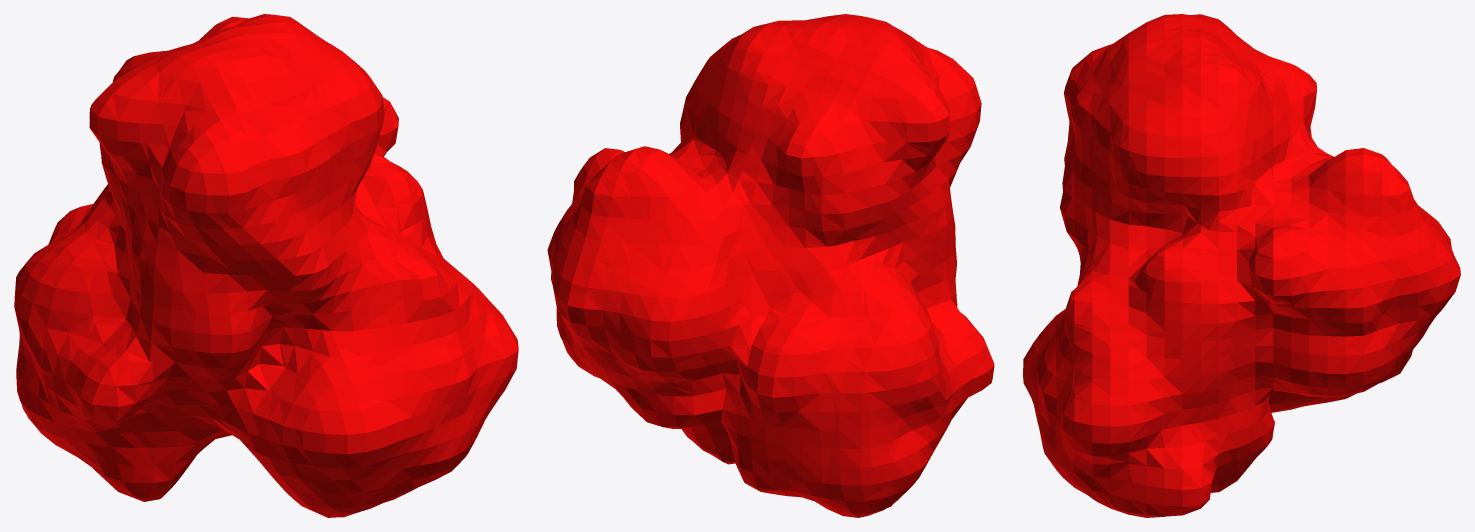
The model's file is yefM_coarse.dae.
3 renders of one model, left to right at view 1: azimuth 30°, elevation 25°; view 2: azimuth 150°, elevation 25°; view 3: azimuth 270°, elevation 25°, orthographic. The views are drawn at different scales.
Visible parts, largest first — view 1: yefM; view 2: yefM; view 3: yefM.
Boxes of the visible parts, left/top/right/bottom form: yefM: left=14, top=14, right=518, bottom=517; yefM: left=547, top=14, right=994, bottom=517; yefM: left=1023, top=14, right=1460, bottom=517.
Size of the model in its own units: 58.24 by 65.94 by 62.37.
